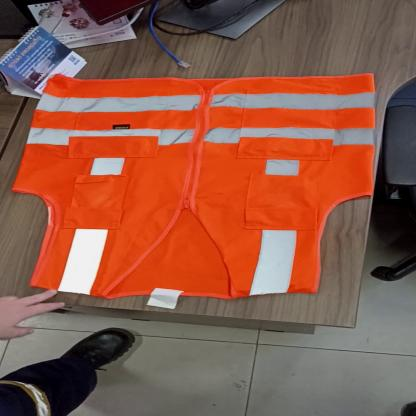colete: (12, 70, 382, 298)
